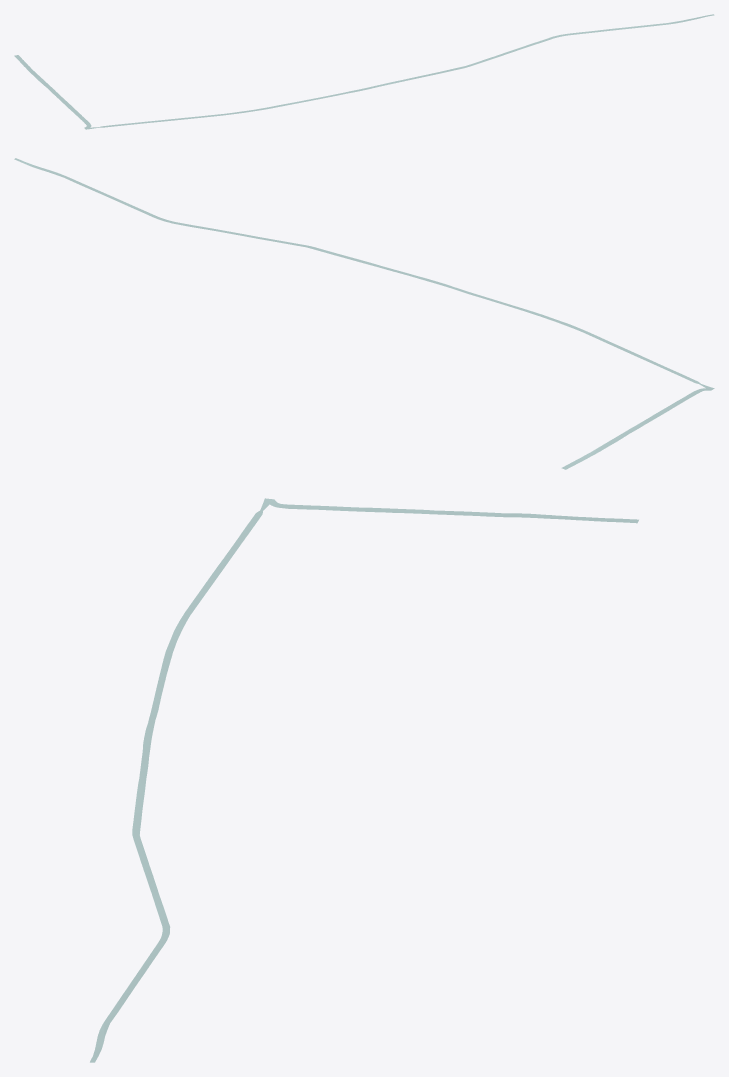
File: suelo_Canal_Fondo.glb
3 renders of one model, top to bottom at view 1: azimuth 30°, elevation 25°; view 2: azimuth 150°, elevation 25°; view 3: azimuth 270°, elevation 25°, orthographic. The views are drawn at different scales.
Visible parts, largest first — view 1: Suelo_Canal_Fondo; view 2: Suelo_Canal_Fondo; view 3: Suelo_Canal_Fondo.
Boxes of the visible parts, bbox=[...] form: Suelo_Canal_Fondo: bbox=[14, 14, 714, 129]; Suelo_Canal_Fondo: bbox=[14, 158, 714, 469]; Suelo_Canal_Fondo: bbox=[90, 498, 638, 1062].
Bounding box in the file's own units: 1786 × 11.37 × 726.
